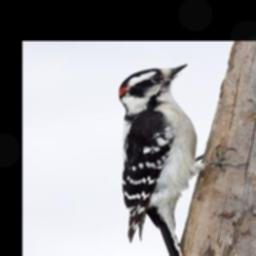Woodpecker: (116, 60, 249, 256)
